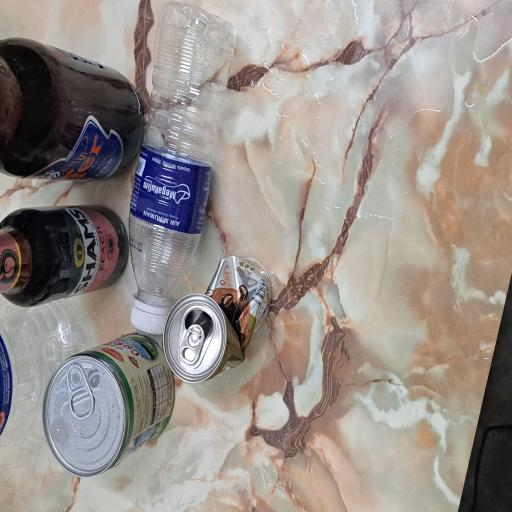can: (27, 56, 135, 233), (96, 216, 193, 363)
glass bottle: (246, 0, 354, 191), (154, 0, 232, 170)
plastic bottle: (158, 173, 382, 315), (54, 0, 157, 123)
plastic bottle cap: (134, 173, 155, 224)
pop tab: (69, 88, 112, 128), (109, 239, 141, 272)
